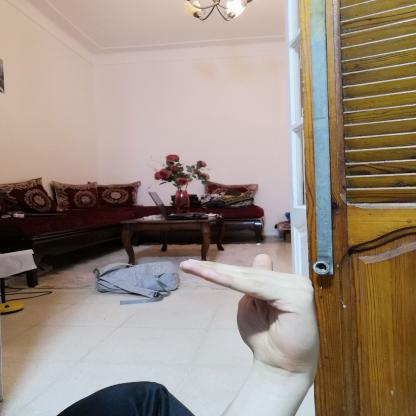KHAA: (164, 246, 344, 379)
